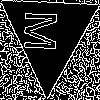M: (24, 10, 65, 53)
